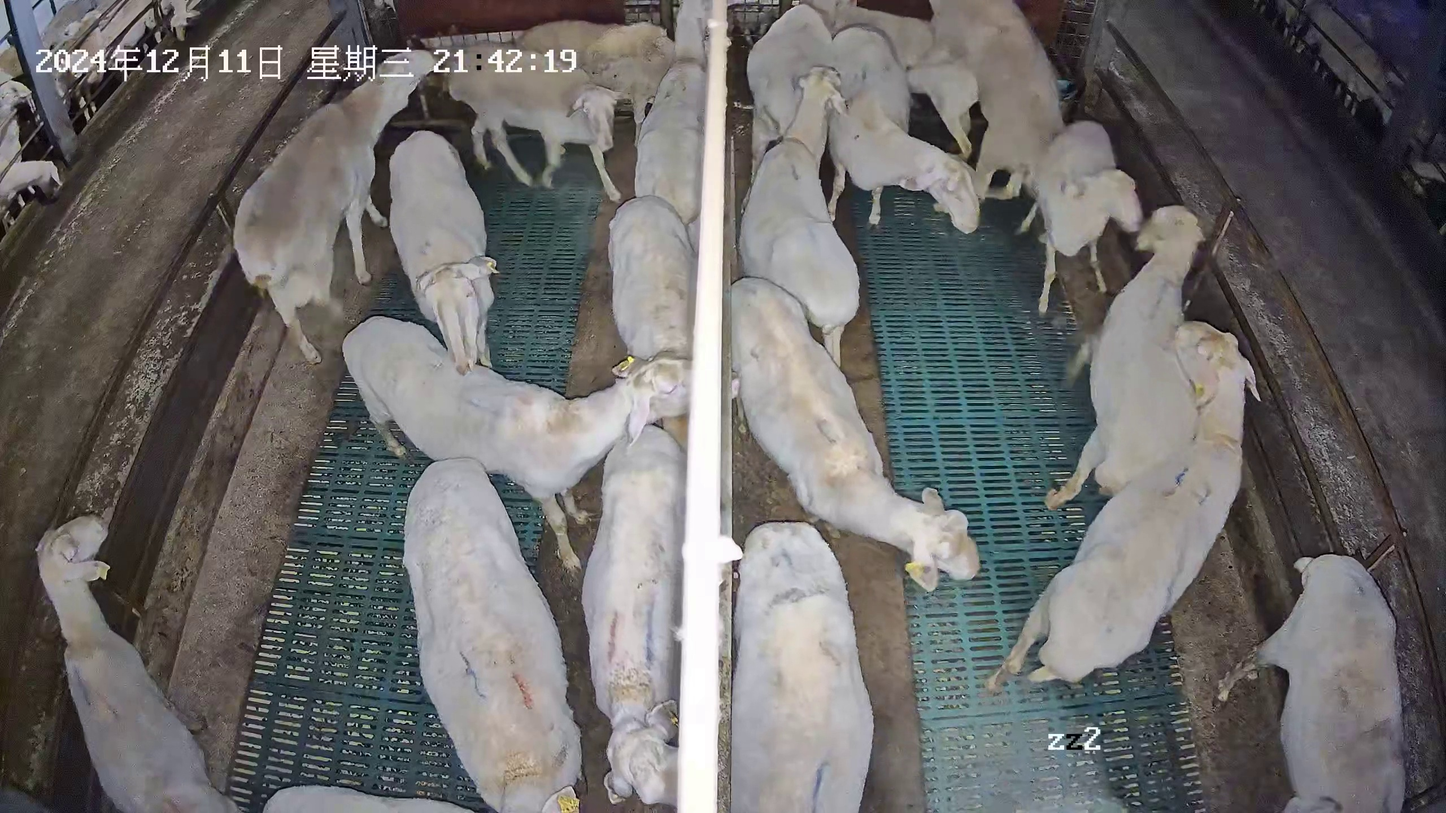Smounting: (809, 1, 1065, 212)
mounted: (812, 1, 982, 159)
